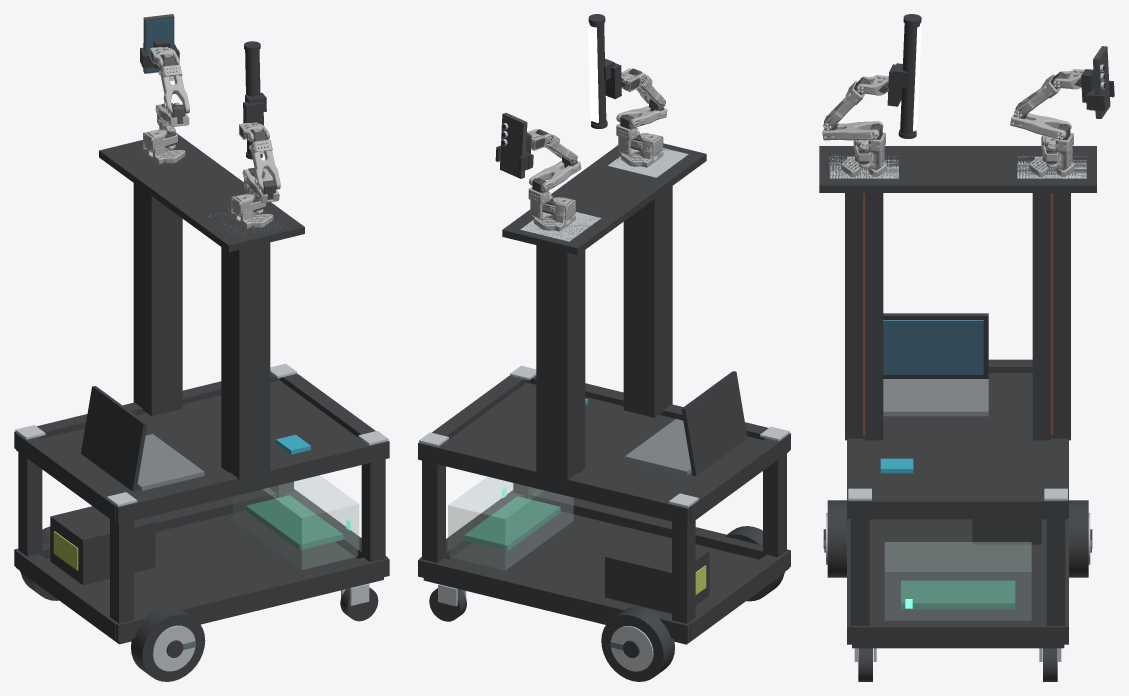
Rendered from take-one-tube.glb.
3 renders of one model, left to right at view 1: azimuth 30°, elevation 25°; view 2: azimuth 150°, elevation 25°; view 3: azimuth 270°, elevation 25°, orthographic. The views are drawn at different scales.
Parts seen in each view (by area): view 1: cart_box, upright_rear, upright_front, cart_work_deck, cart_deck, electronics_box, frame_side_0.25_0.49, frame_side_0.25_0.15, battery, laptop_lid, frame_end_-0.39_0.49, frame_end_-0.39_0.15 (+19 smaller); view 2: upright_front, cart_work_deck, upright_rear, cart_box, electronics_box, cart_deck, frame_side_-0.25_0.49, frame_side_-0.25_0.15, battery, laptop_lid, frame_side_0.25_0.15, frame_end_-0.39_0.49 (+22 smaller); view 3: cart_work_deck, cart_box, electronics_box, cart_deck, upright_front, upright_rear, laptop_screen, frame_end_0.39_0.15, frame_end_0.39_0.49, laptop_keyboard, electronics_board, corner_leg_-0.24_0.38 (+27 smaller).
Boxes of the visible parts, x1,y1,x2,y2 form: cart_box: [20, 510, 383, 644]; upright_rear: [221, 242, 270, 480]; upright_front: [133, 183, 182, 416]; cart_work_deck: [43, 380, 361, 495]; cart_deck: [99, 132, 304, 252]; electronics_box: [233, 475, 358, 569]; frame_side_0.25_0.49: [111, 440, 389, 524]; frame_side_0.25_0.15: [116, 557, 389, 641]; battery: [50, 506, 155, 584]; laptop_lid: [81, 386, 147, 491]; frame_end_-0.39_0.49: [16, 433, 117, 522]; frame_end_-0.39_0.15: [16, 551, 117, 640]; upright_front: [536, 245, 585, 481]; cart_work_deck: [446, 382, 762, 497]; upright_rear: [623, 186, 672, 417]; cart_box: [423, 511, 785, 644]; electronics_box: [448, 477, 573, 570]; cart_deck: [502, 143, 706, 255]; frame_side_-0.25_0.49: [418, 441, 689, 525]; frame_side_-0.25_0.15: [418, 557, 695, 642]; battery: [605, 533, 709, 613]; laptop_lid: [681, 371, 747, 475]; frame_side_0.25_0.15: [530, 489, 790, 567]; frame_end_-0.39_0.49: [688, 435, 789, 523]; cart_work_deck: [865, 373, 1050, 493]; cart_box: [852, 519, 1064, 648]; electronics_box: [885, 542, 1031, 620]; cart_deck: [819, 146, 1096, 192]; upright_front: [1032, 193, 1070, 440]; upright_rear: [845, 193, 883, 440]; laptop_screen: [883, 320, 983, 374]; frame_end_0.39_0.15: [852, 620, 1064, 645]; frame_end_0.39_0.49: [852, 494, 1064, 519]; laptop_keyboard: [883, 379, 988, 416]; electronics_board: [901, 580, 1015, 609]; corner_leg_-0.24_0.38: [1046, 519, 1065, 625].
Bounding box in the file's own units: 0.824 × 1.67 × 0.7237.
